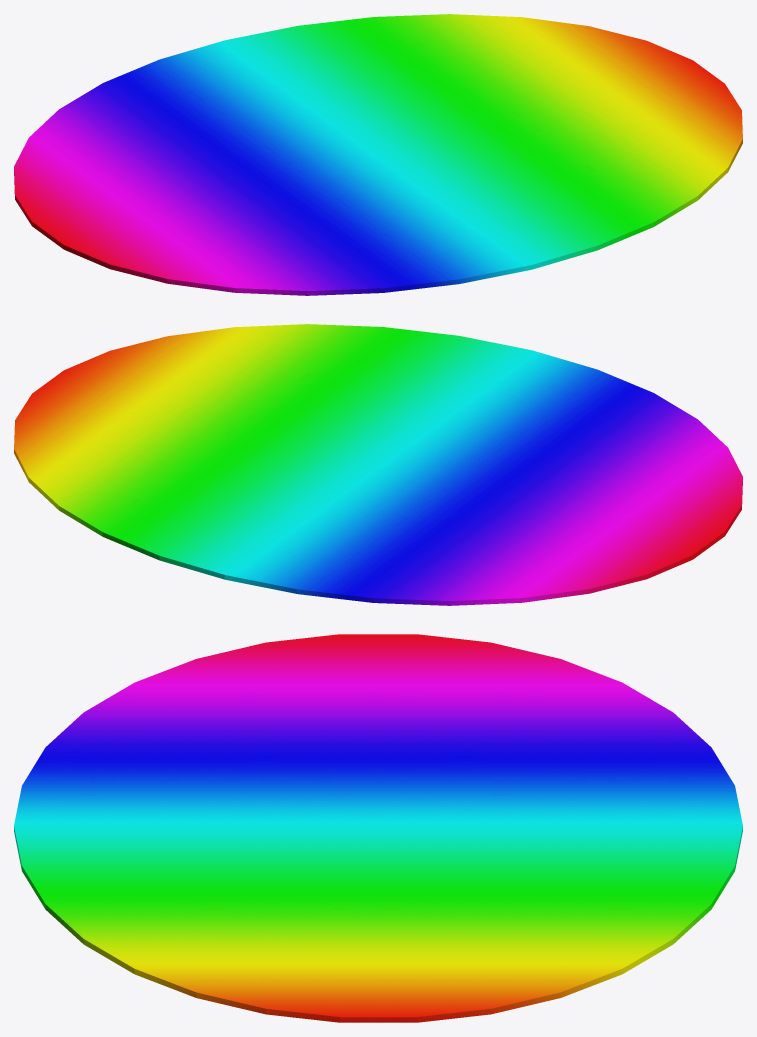
The model's file is carpet4.obj.
3 renders of one model, top to bottom at view 1: azimuth 30°, elevation 25°; view 2: azimuth 150°, elevation 25°; view 3: azimuth 270°, elevation 25°, orthographic. The views are drawn at different scales.
Size of the model in its own units: 3.29 by 0.0226 by 2.65.
